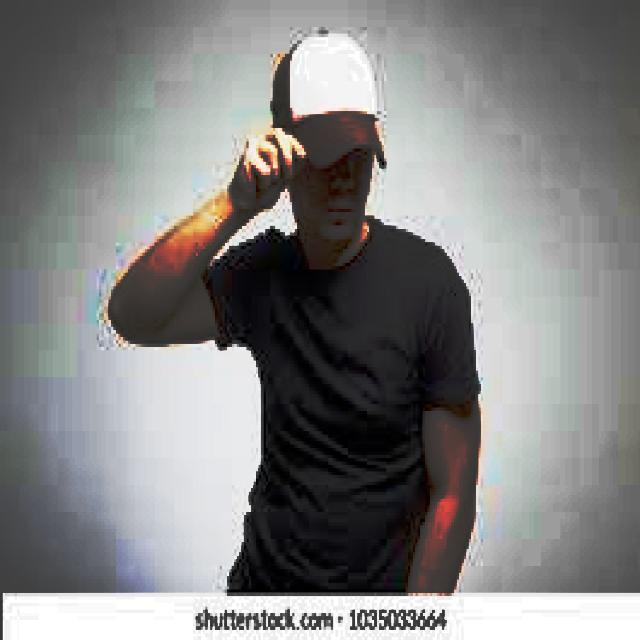TOPI: (266, 20, 386, 179)
